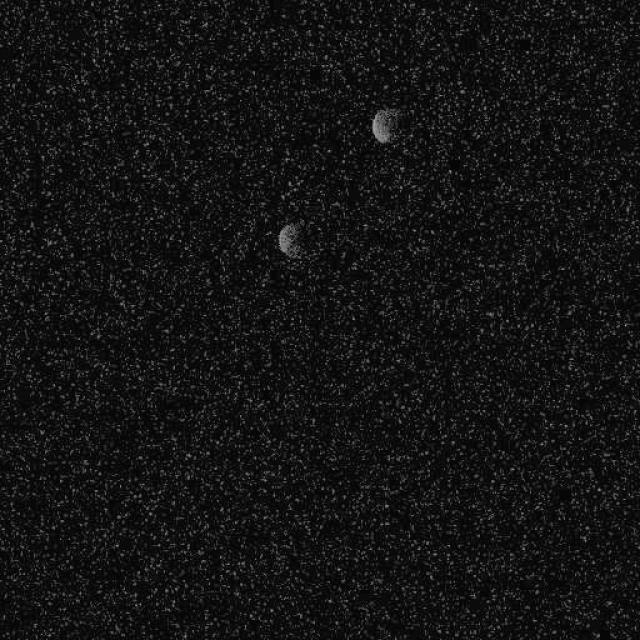D2: (370, 106, 401, 144), (276, 222, 302, 258)
